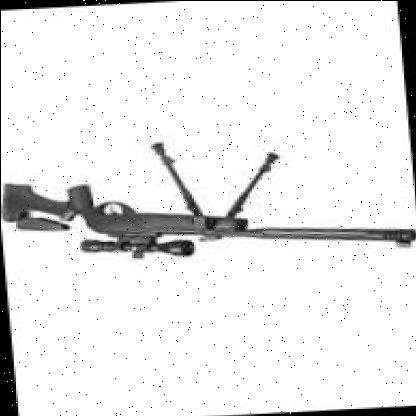rifle: (0, 160, 416, 284)
